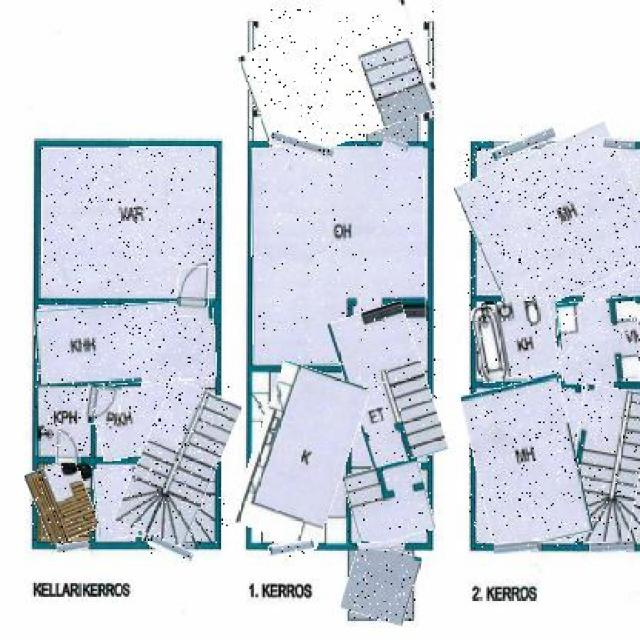door: (178, 266, 210, 317), (86, 384, 120, 424), (57, 429, 80, 463)
window: (491, 132, 557, 157), (269, 137, 334, 157), (148, 538, 194, 558), (269, 540, 314, 557), (496, 540, 542, 554), (357, 540, 403, 551), (382, 138, 409, 156), (603, 138, 635, 151), (589, 543, 634, 552), (57, 542, 88, 552)
zone: (252, 148, 425, 366), (464, 135, 640, 306), (246, 9, 434, 152), (42, 148, 215, 294), (241, 366, 357, 545), (469, 380, 585, 549), (338, 303, 437, 468), (128, 383, 229, 543), (35, 302, 217, 386), (566, 384, 640, 544), (557, 297, 640, 383), (348, 462, 430, 544), (474, 302, 557, 382), (94, 386, 175, 459), (344, 544, 418, 622), (31, 460, 95, 542), (35, 384, 91, 456), (94, 466, 140, 539)
